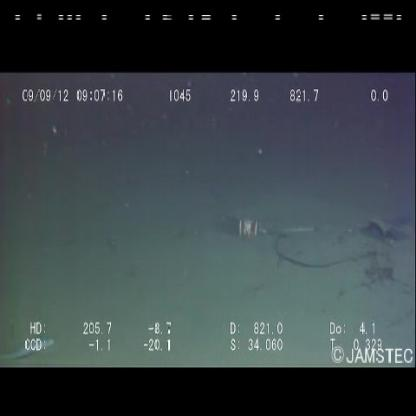Rác: (196, 190, 282, 253)
